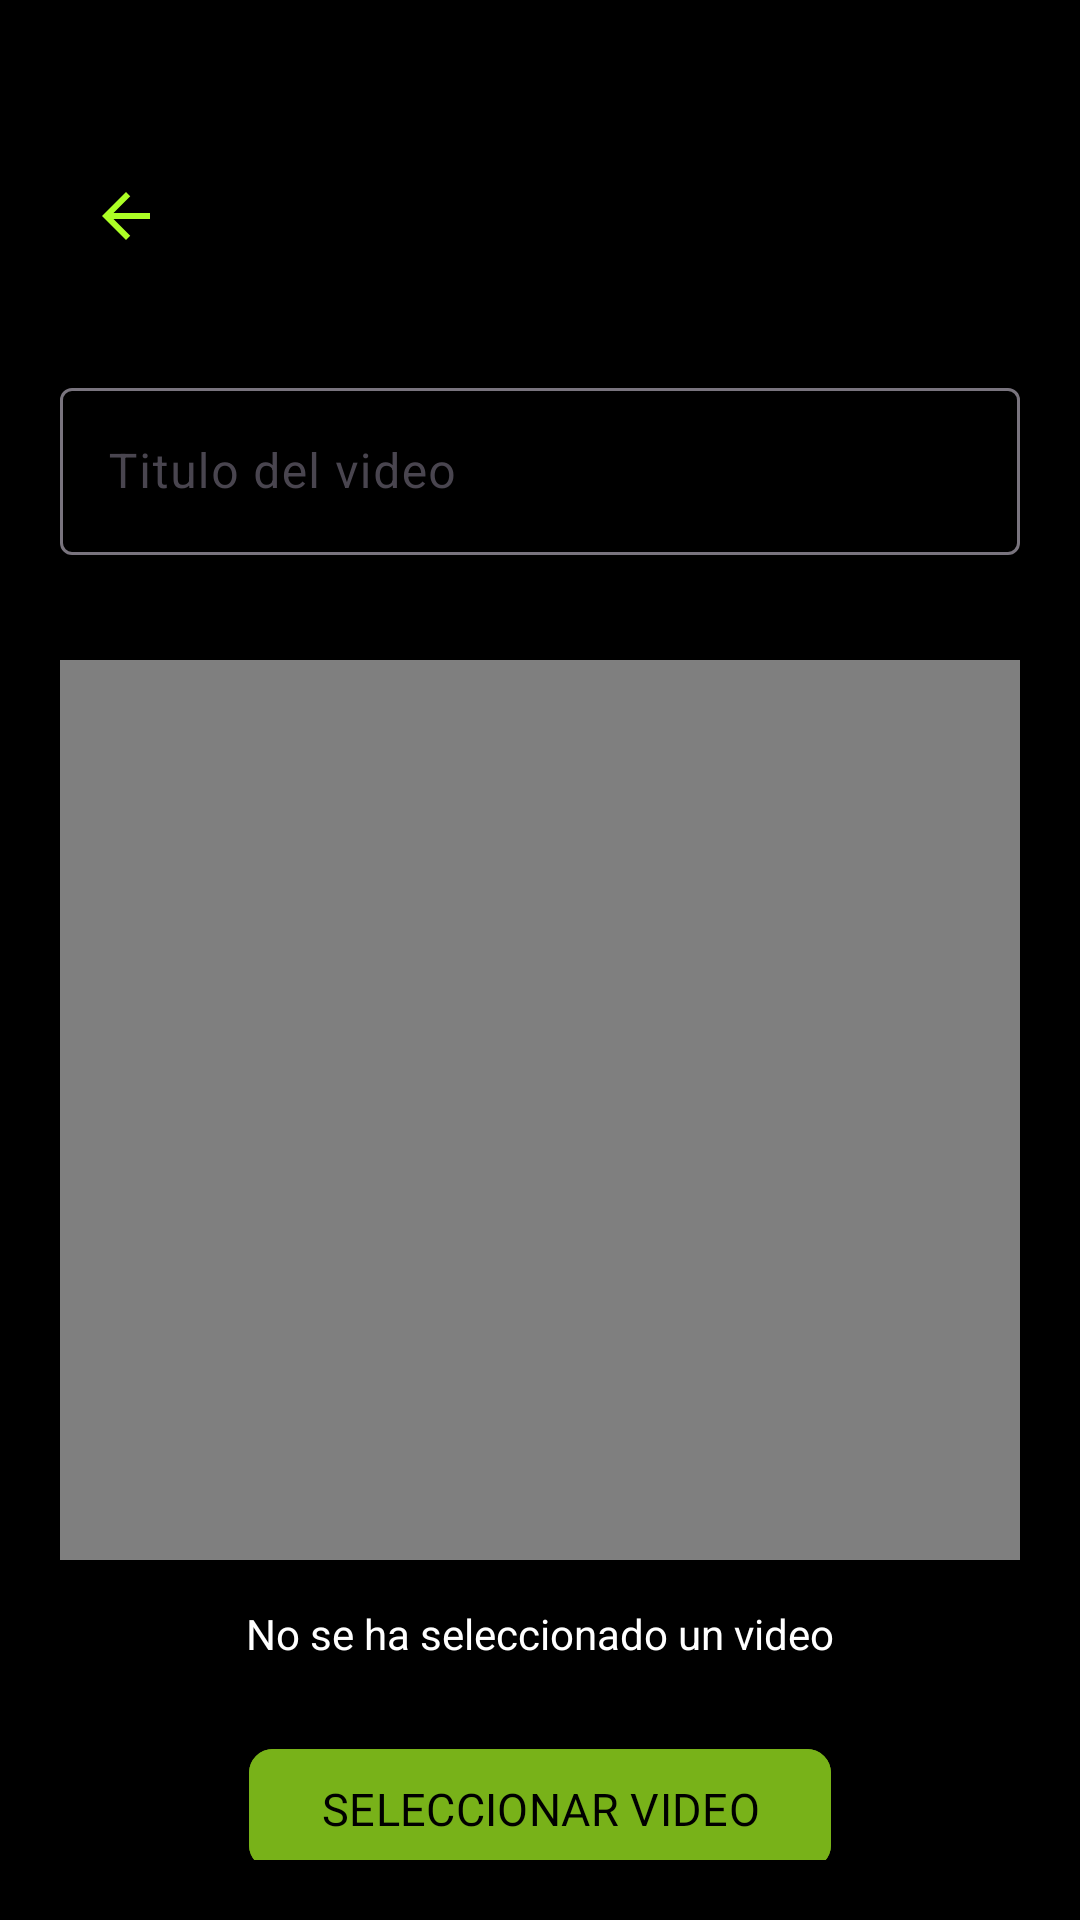

Icon bounding boxes for this 1080w x 1920h phone screenshot, format (x1, y1, x2, y2):
flecha atras: (102, 192, 150, 240)
